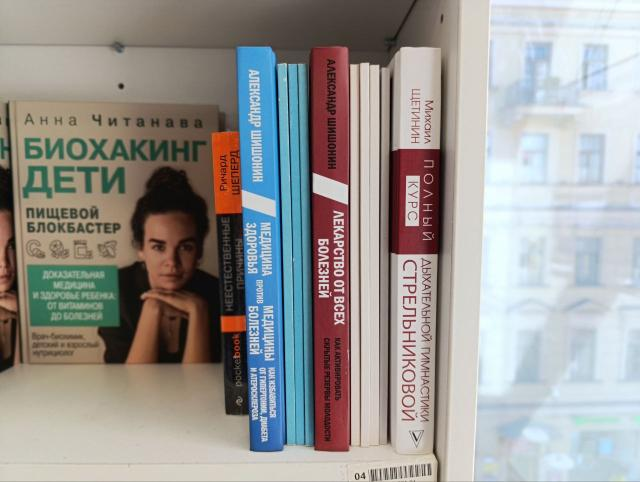book-s-spine: (236, 46, 283, 452), (396, 47, 442, 456), (312, 47, 349, 453), (211, 131, 248, 416)
